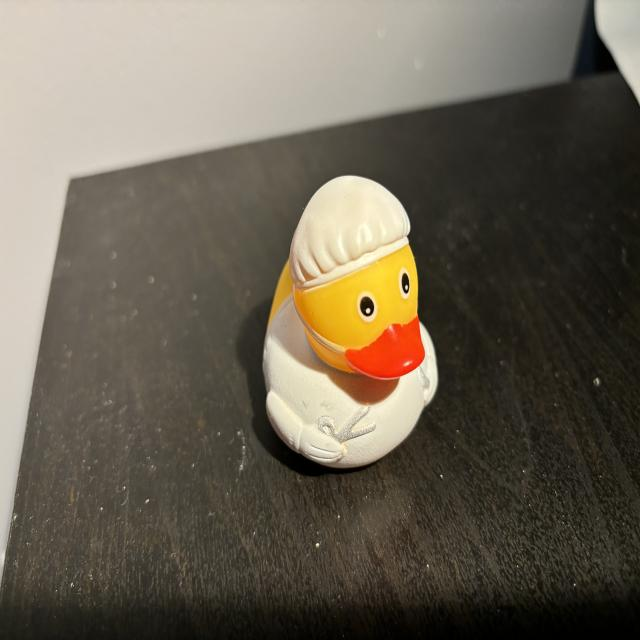duck_specialty: (263, 176, 439, 468)
